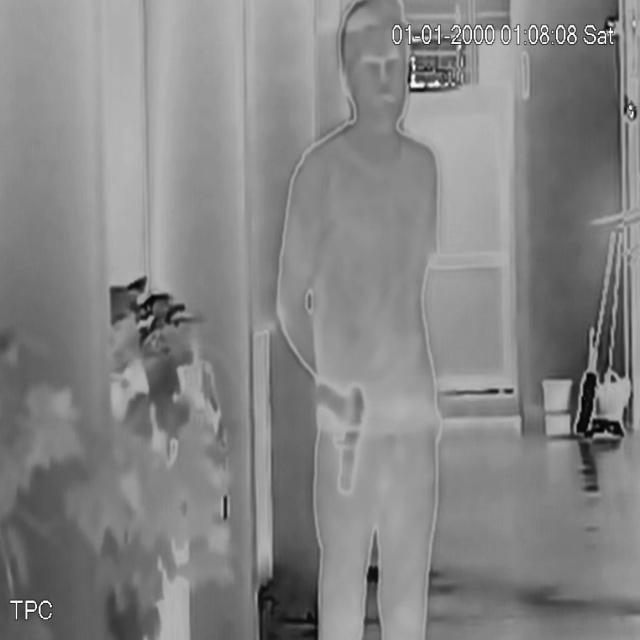Weapon: (312, 368, 373, 507)
